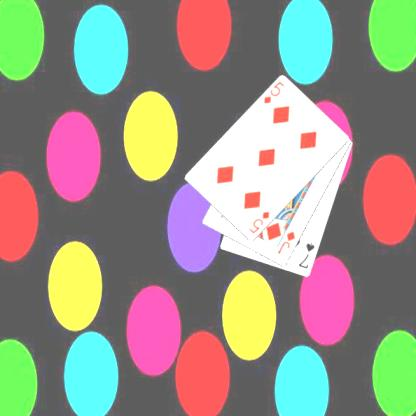5D: (260, 79, 286, 105), (246, 209, 271, 235)
7S: (296, 240, 316, 270)
JD: (274, 228, 297, 256)
